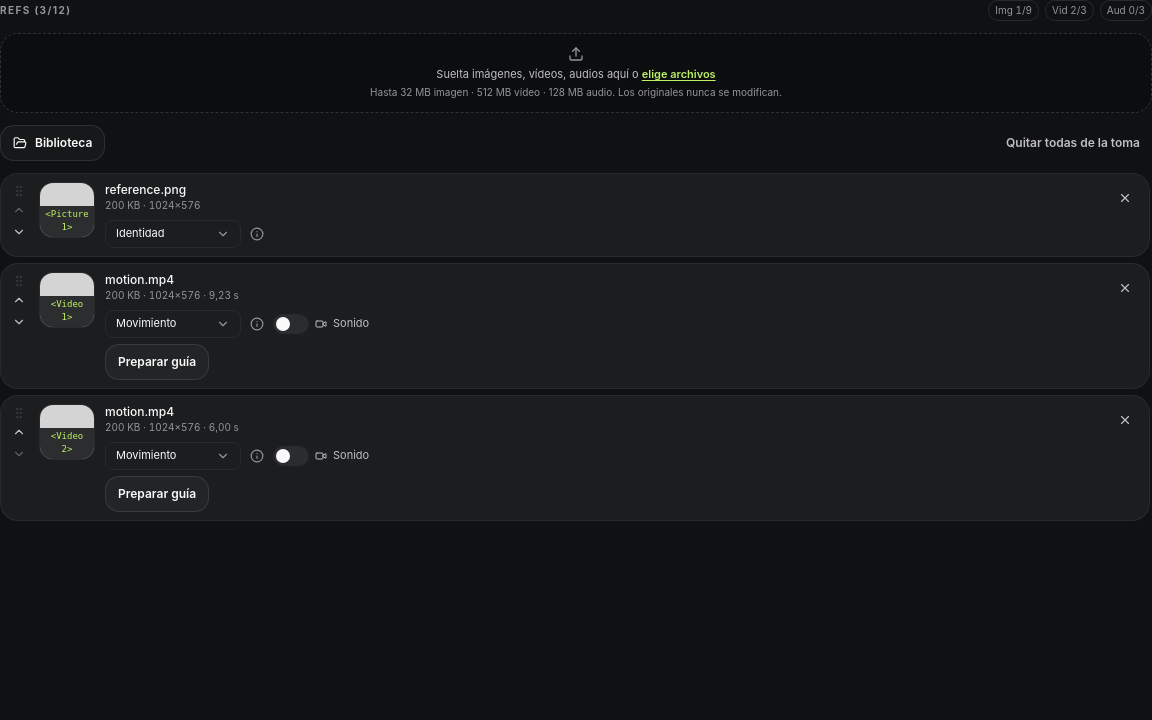
Scenario: Preparar guía integration › rejects invalid or above-grid-max seconds  without clamping
Click the button "Preparar guía" below "· 9,23 s". click: [157, 362]
box: [105,344,209,380]
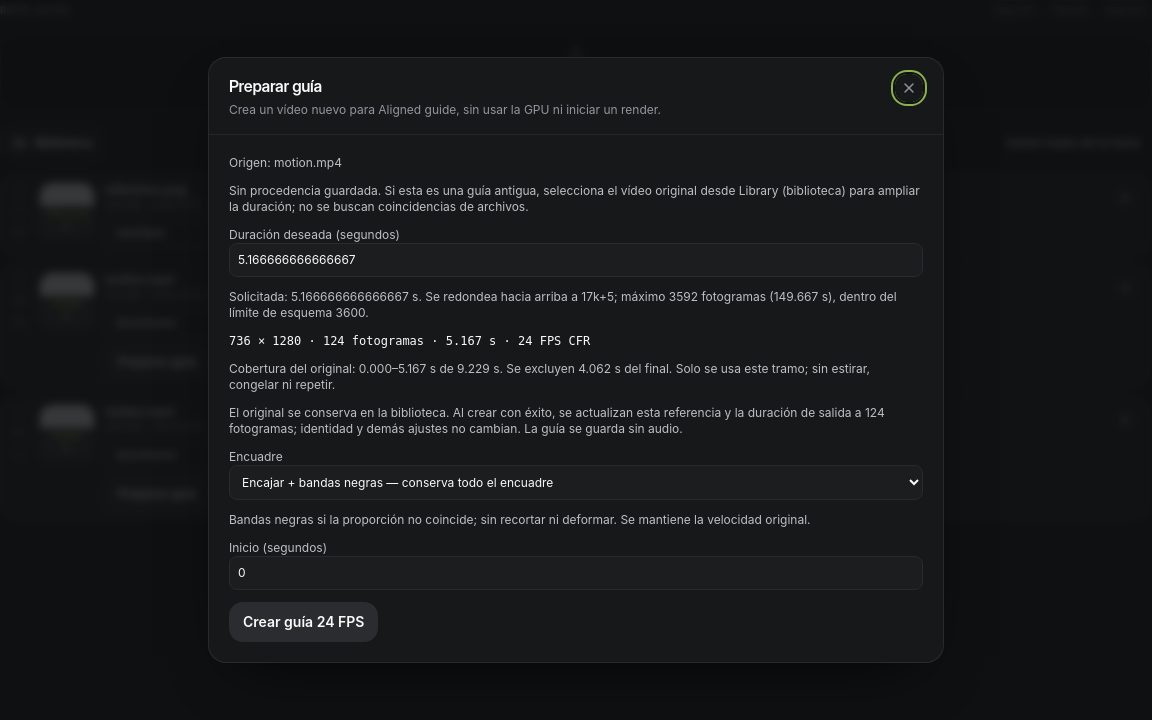
Clear the number field labelled "Duración deseada (segundos)". click: [576, 260]
box: [229,243,923,277]
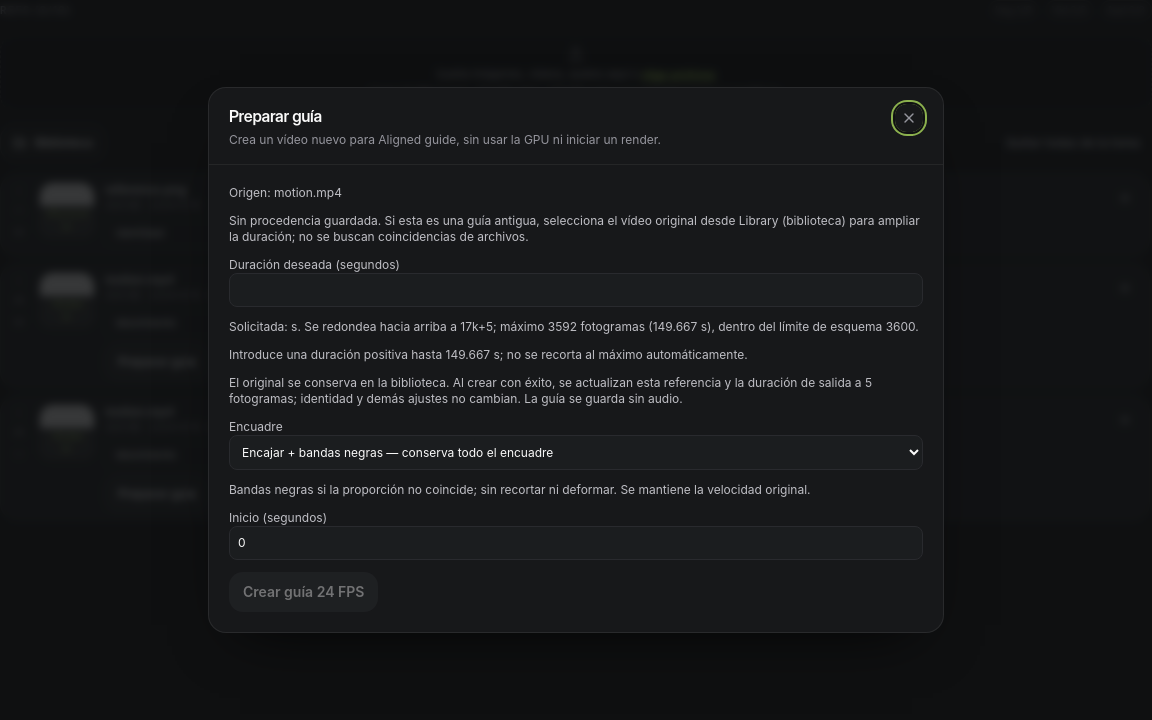
Result: the message shows "duración positiva" at [229,347,748,362]
Result: the button "Crear guía 24 FPS" is disabled at [229,572,378,612]
